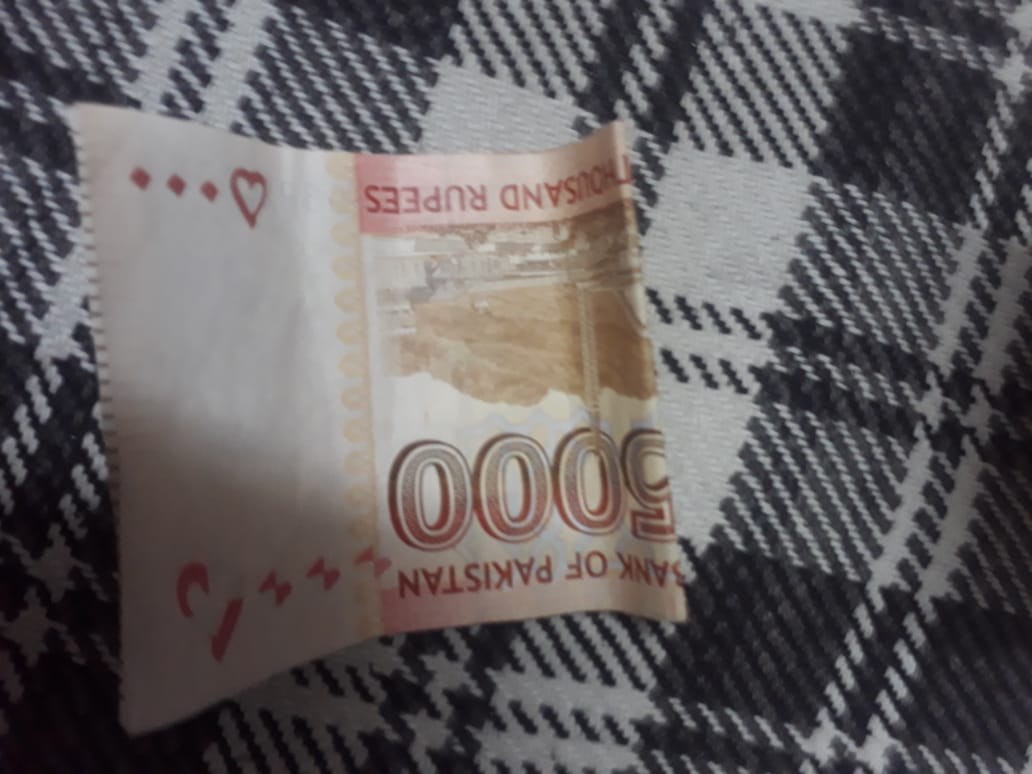5000 rupee: (63, 77, 700, 762)
